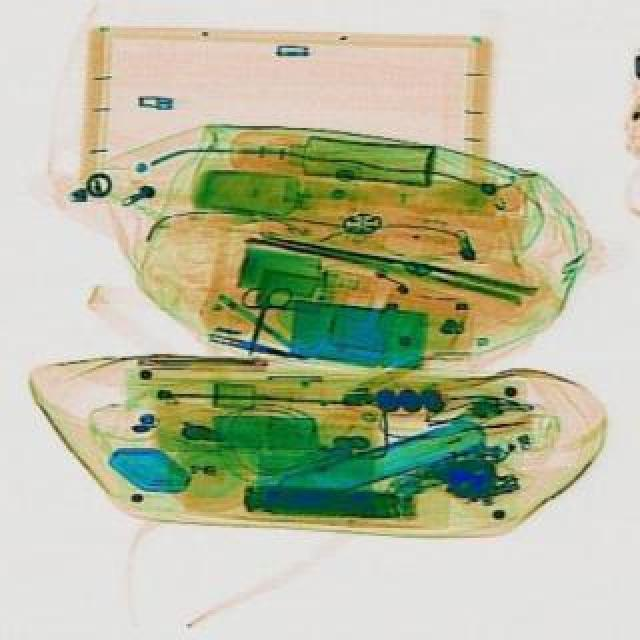pliers: (222, 278, 290, 358)
